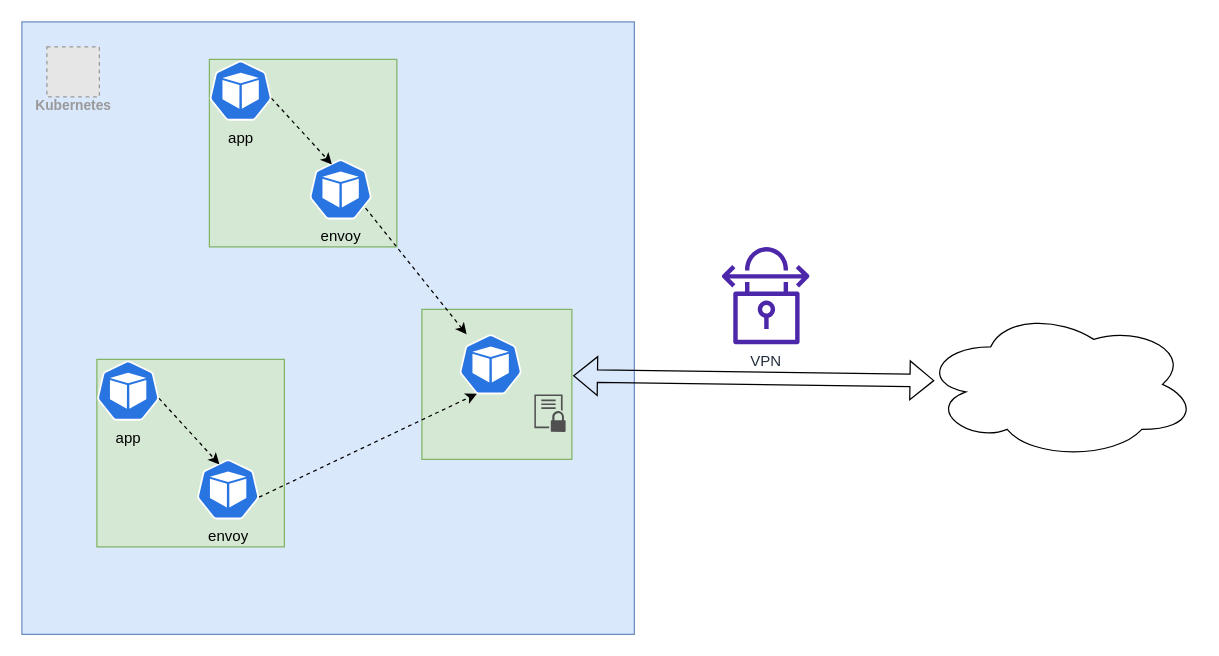
The diagram is 1219 pixels wide and 656 high, and some of its shapes have lost their labels. Grey dashed boxes stand in for pictures. Each missing label, with the box of its shape:
openvpn: (458, 333, 522, 394)
PRIVATE: (921, 308, 1197, 459)
vpn profile: (534, 394, 565, 431)
